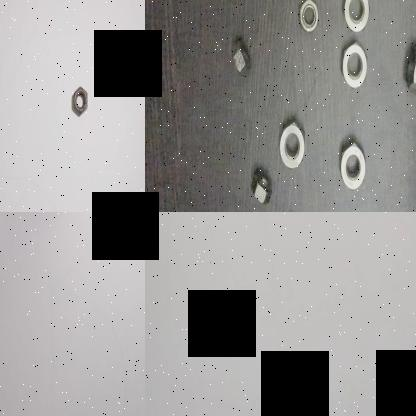NUTS: (334, 134, 370, 192), (274, 115, 310, 172), (340, 39, 368, 93), (227, 30, 253, 80), (340, 0, 370, 38), (293, 0, 323, 32), (401, 40, 416, 98), (70, 83, 90, 117)
